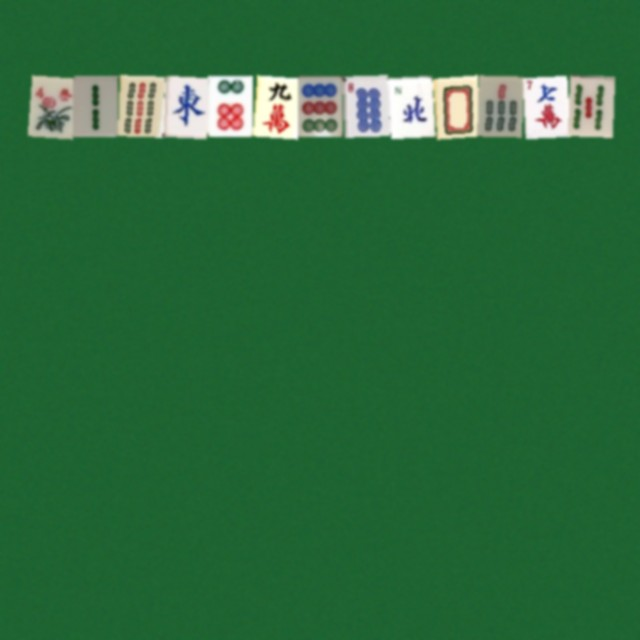tile: (27, 75, 72, 136), (72, 75, 117, 136), (117, 75, 162, 136), (162, 75, 207, 136), (207, 75, 252, 136), (252, 75, 297, 136), (297, 75, 342, 136), (342, 75, 387, 136), (387, 75, 432, 136), (432, 75, 477, 136), (477, 75, 522, 136), (522, 75, 567, 136), (567, 75, 612, 136)
